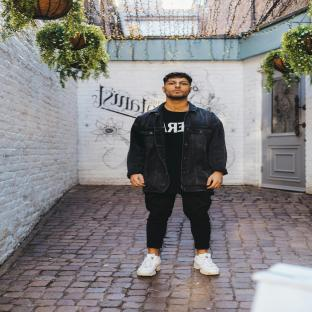Human: (127, 72, 227, 276)
